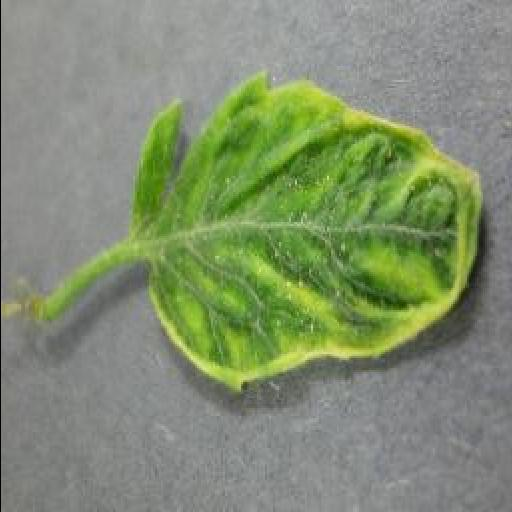disease_tomato: (130, 70, 482, 391)
